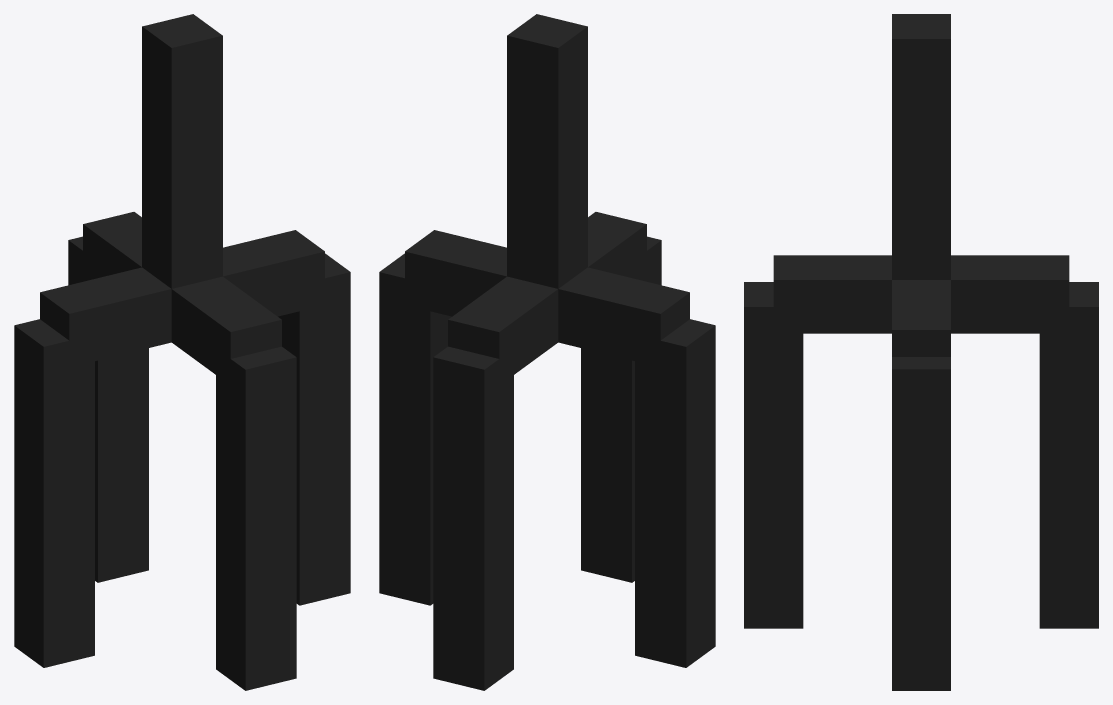
File: turret_base.obj
3 views of the same model, side by side, from view 1: azimuth 30°, elevation 25°; view 2: azimuth 150°, elevation 25°; view 3: azimuth 270°, elevation 25° (orthographic).
Size of the model in its own units: 1.2 by 2.2 by 1.2.
Materials: 1 (1 with a texture image).
